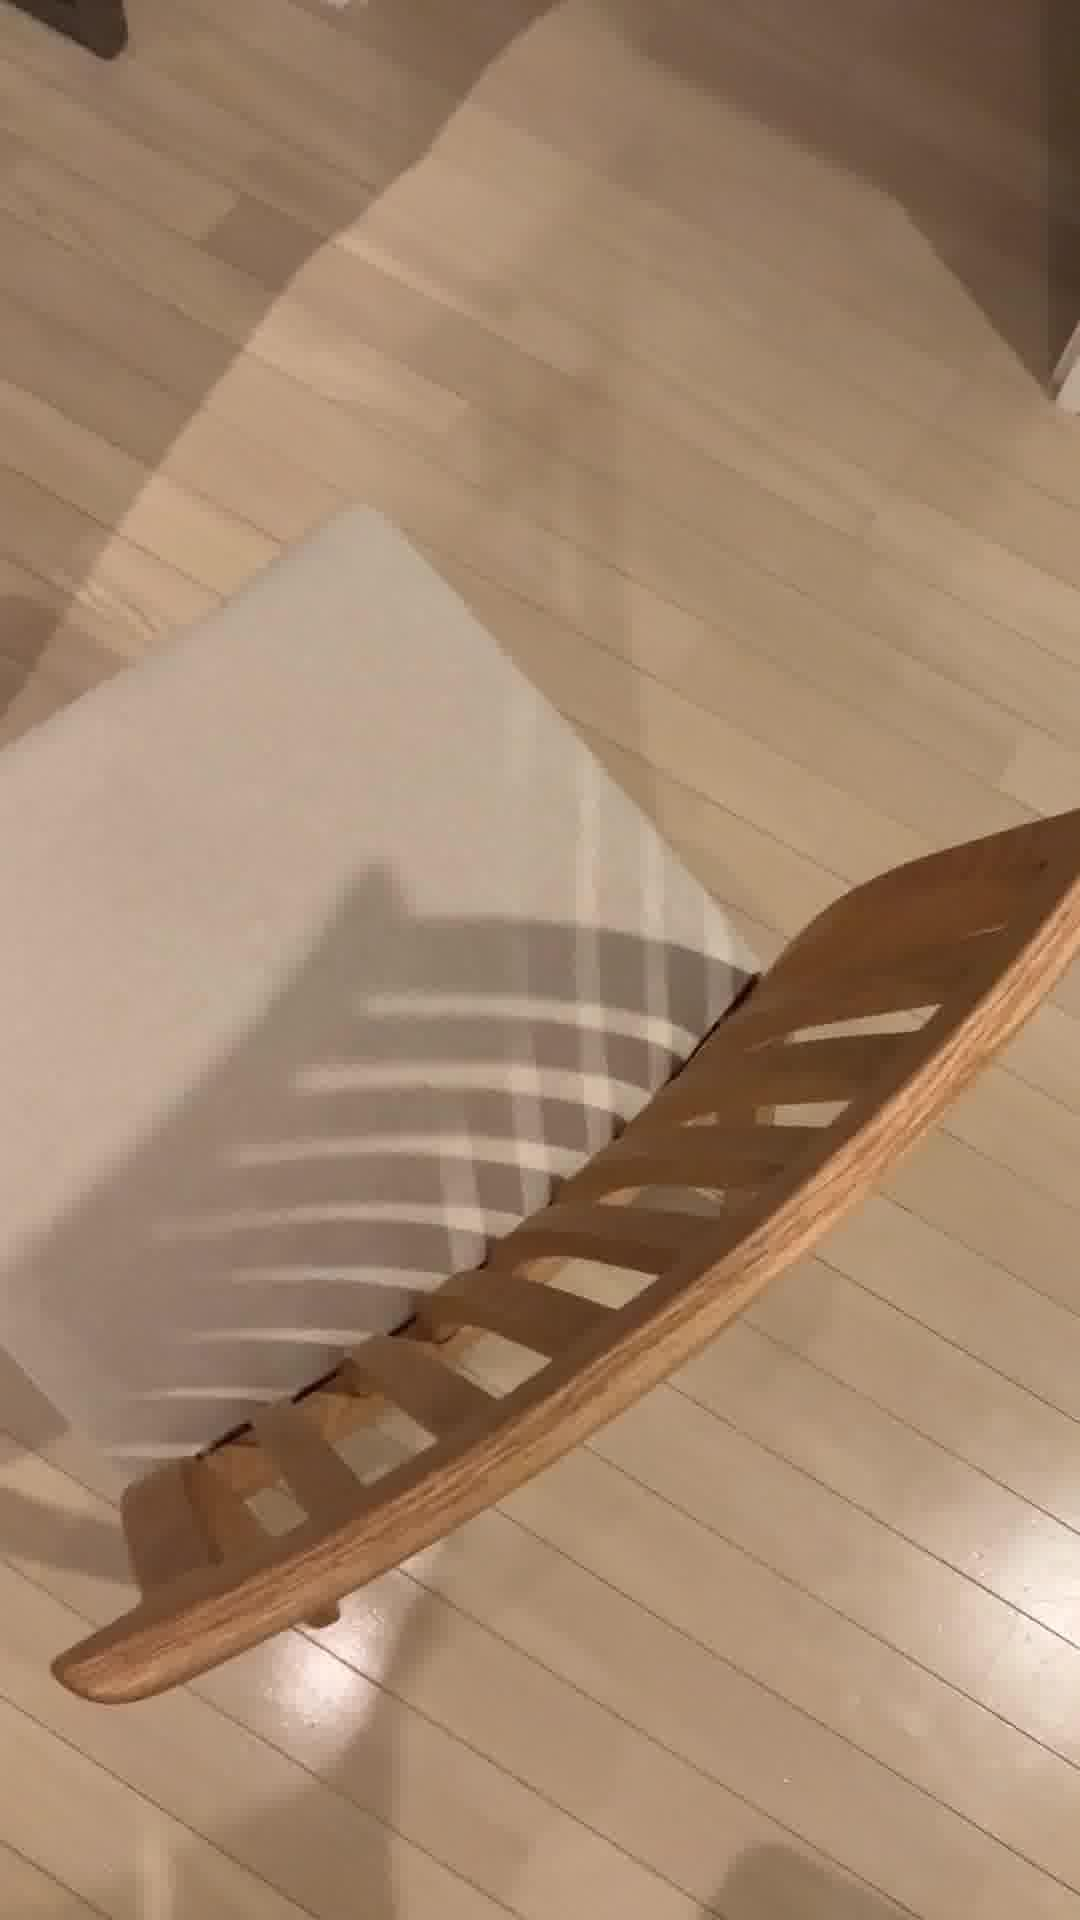takumikan-chair: (0, 488, 1080, 1705)
